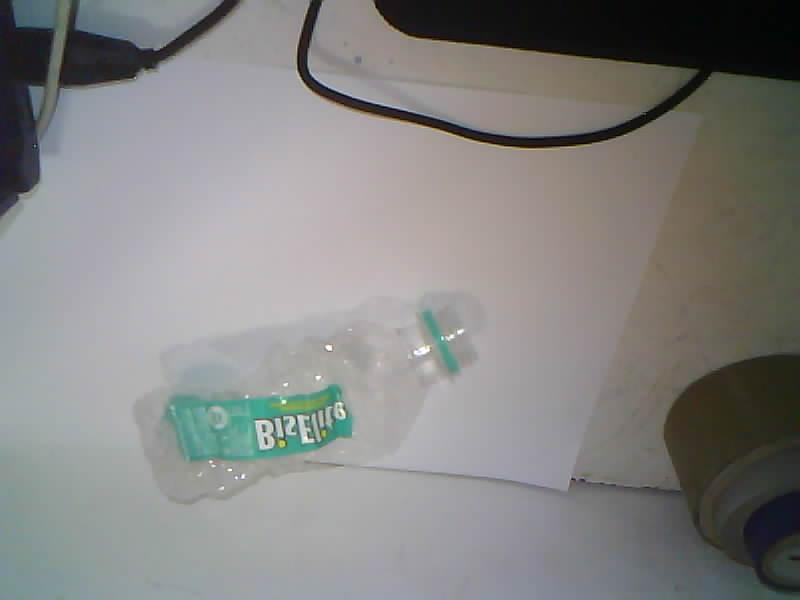non-biodegradable: (134, 304, 475, 503)
